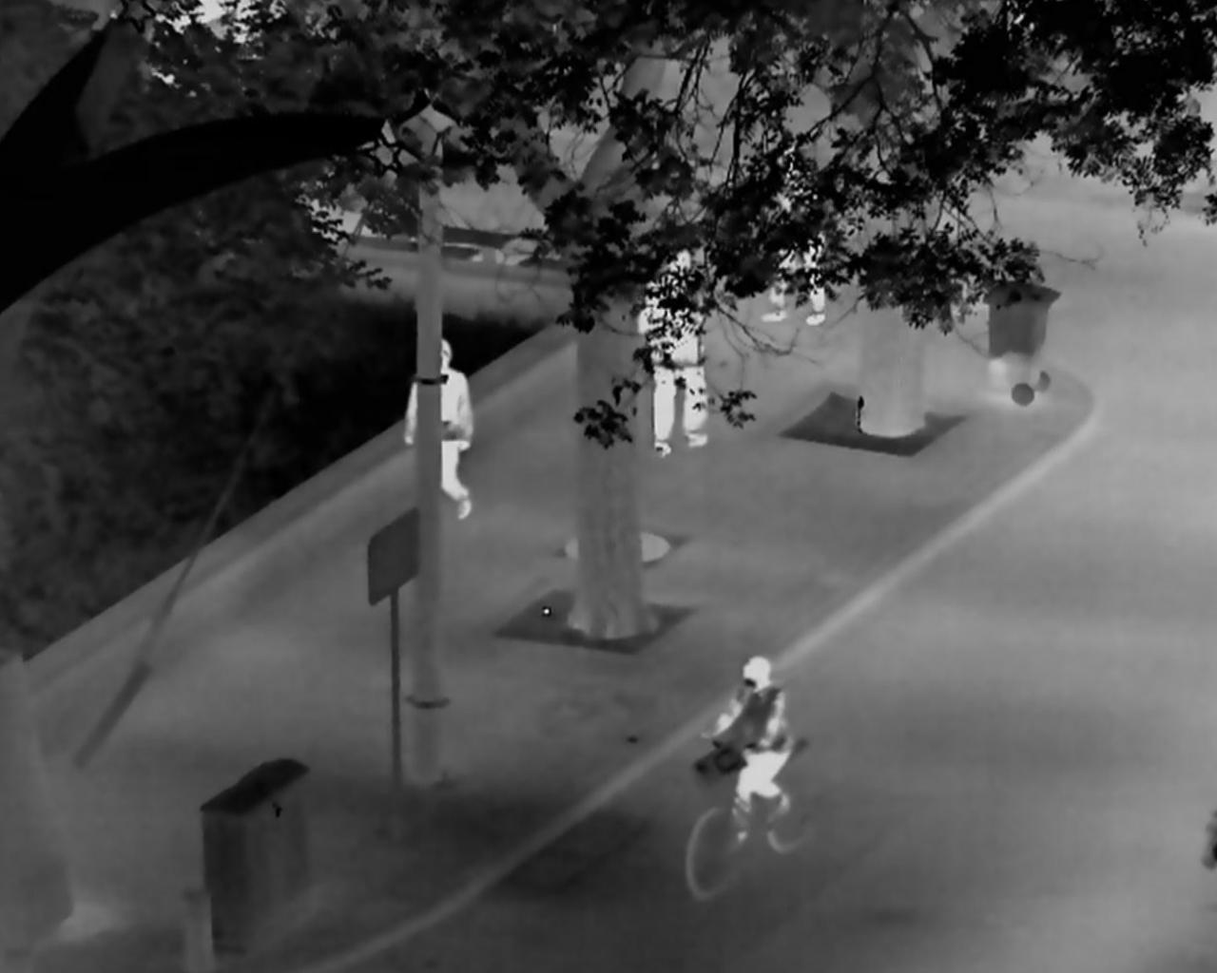person: (702, 653, 790, 842), (637, 248, 710, 455), (402, 334, 475, 521), (760, 141, 829, 326)
